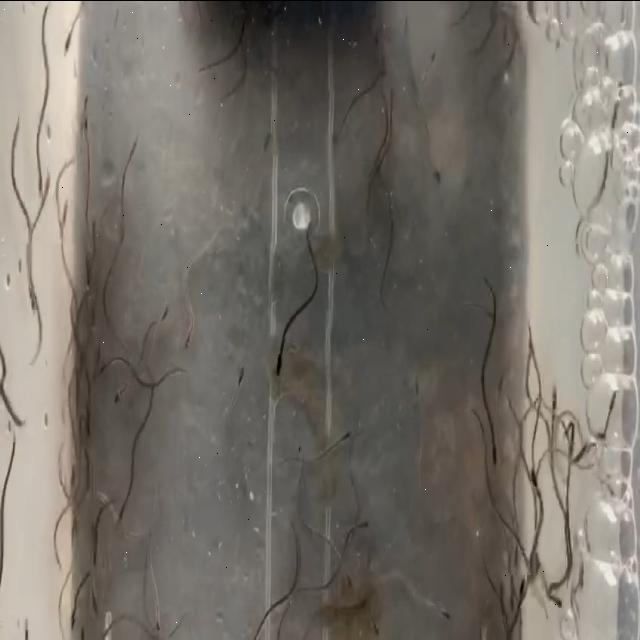active_glass_eel: (86, 358, 109, 406), (433, 592, 455, 636), (61, 599, 85, 639), (268, 341, 290, 384), (110, 376, 132, 418), (122, 134, 142, 177), (326, 124, 345, 169), (178, 320, 198, 362), (545, 575, 567, 613), (408, 368, 424, 420), (76, 92, 94, 138), (339, 564, 362, 598), (426, 32, 444, 74), (353, 508, 372, 546), (31, 161, 49, 201), (84, 587, 104, 623), (525, 462, 543, 500), (22, 289, 42, 322), (336, 419, 354, 455), (486, 438, 506, 470), (154, 295, 172, 330), (57, 198, 71, 240), (233, 356, 247, 396), (114, 502, 130, 528), (64, 32, 74, 50)
